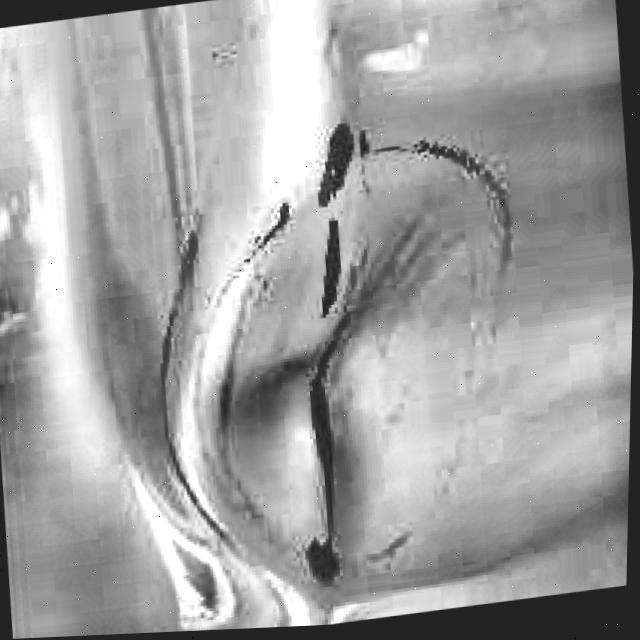bumper_dent: (204, 219, 442, 597)
